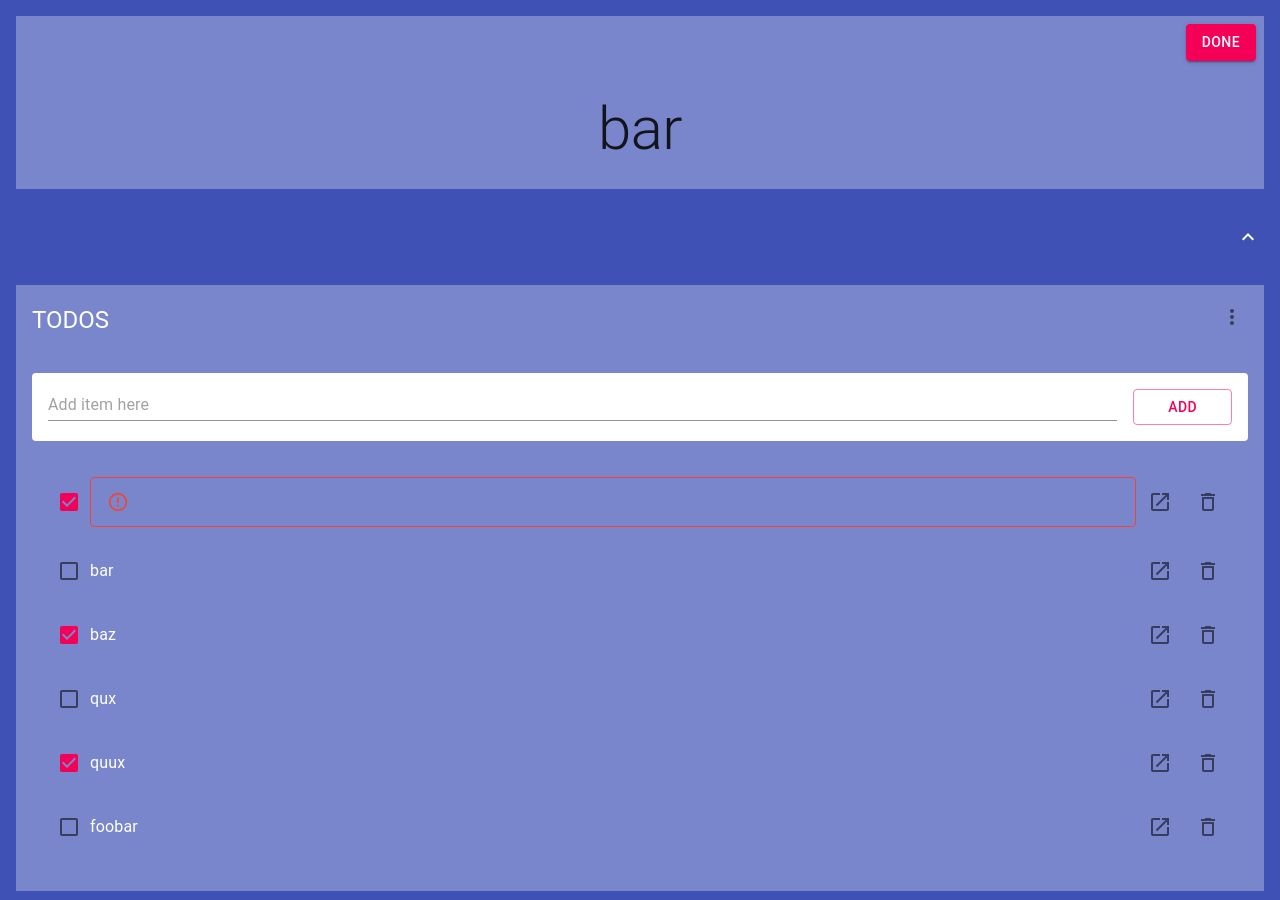
it: Visibility filters › SHOW_INVALID
The width and height of the screenshot is (1280, 900).
What coordinates should you click on to do the following:
click the button named "setting"
I would click on:
 (1232, 316)
Its box is [1208,292,1256,340].
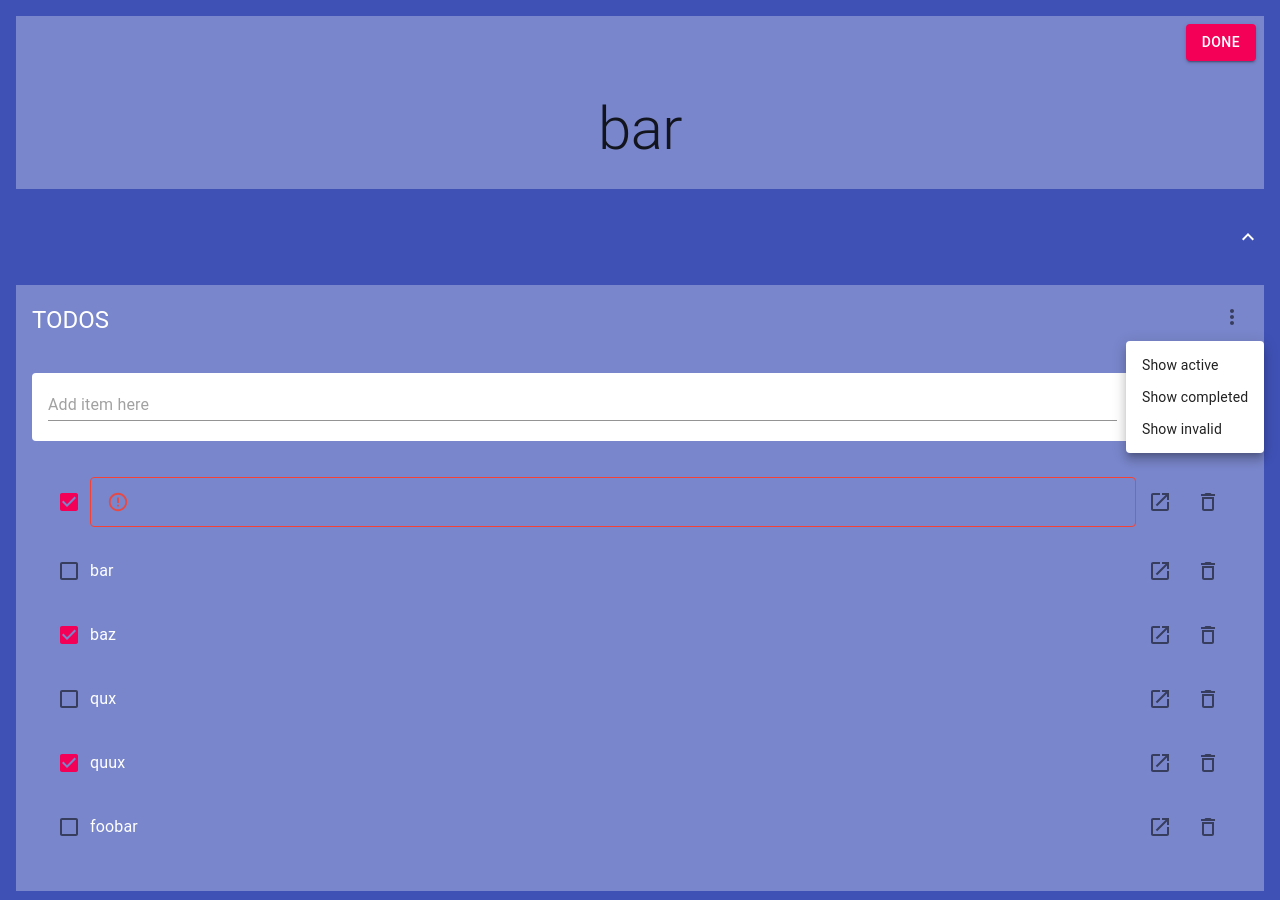
What coordinates should you click on to do the following:
click the menu item "Show invalid"
I would click on:
 (1182, 429)
Its box is [1142,421,1222,437].
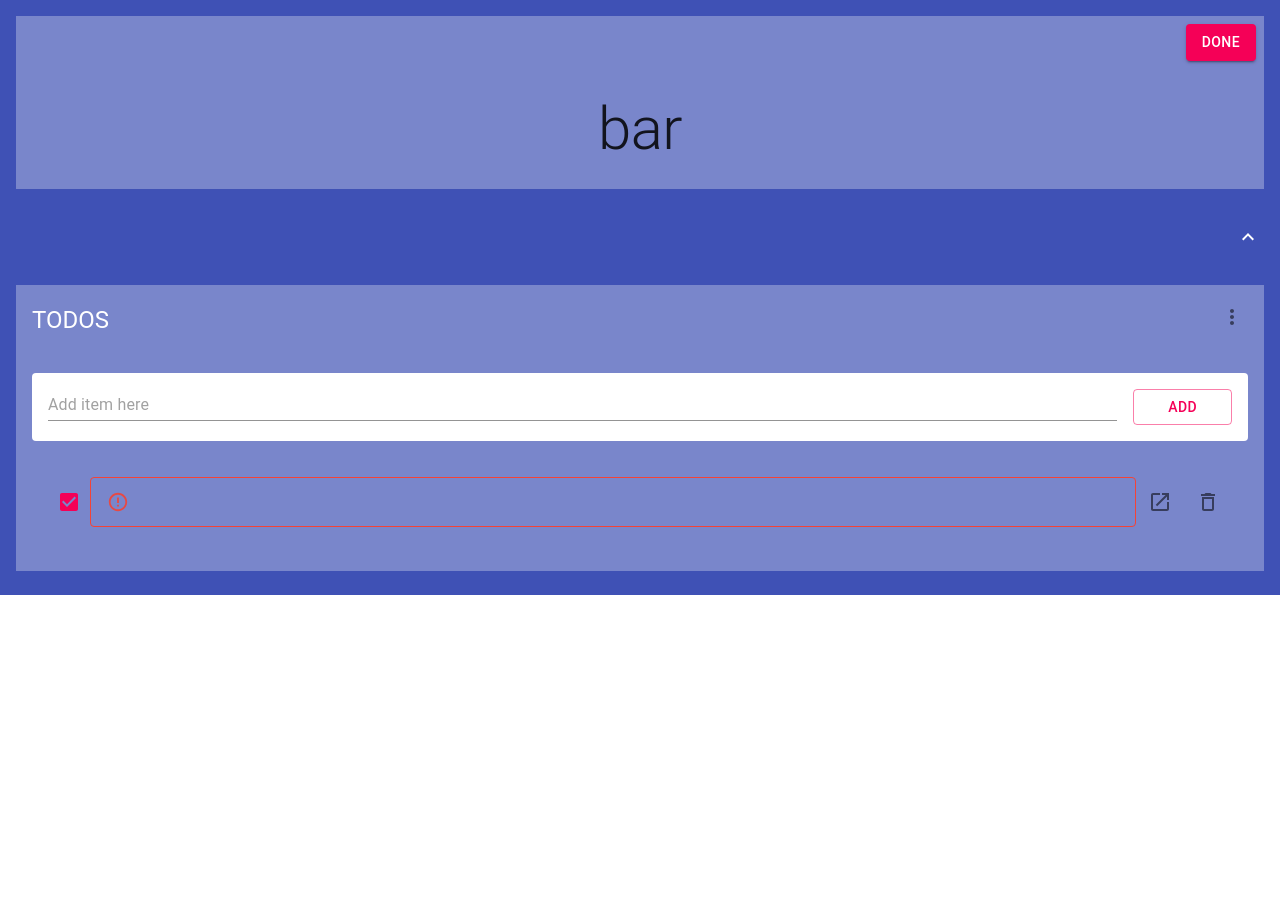
Now the list items read "", in this order, box [32,465,1248,539]
